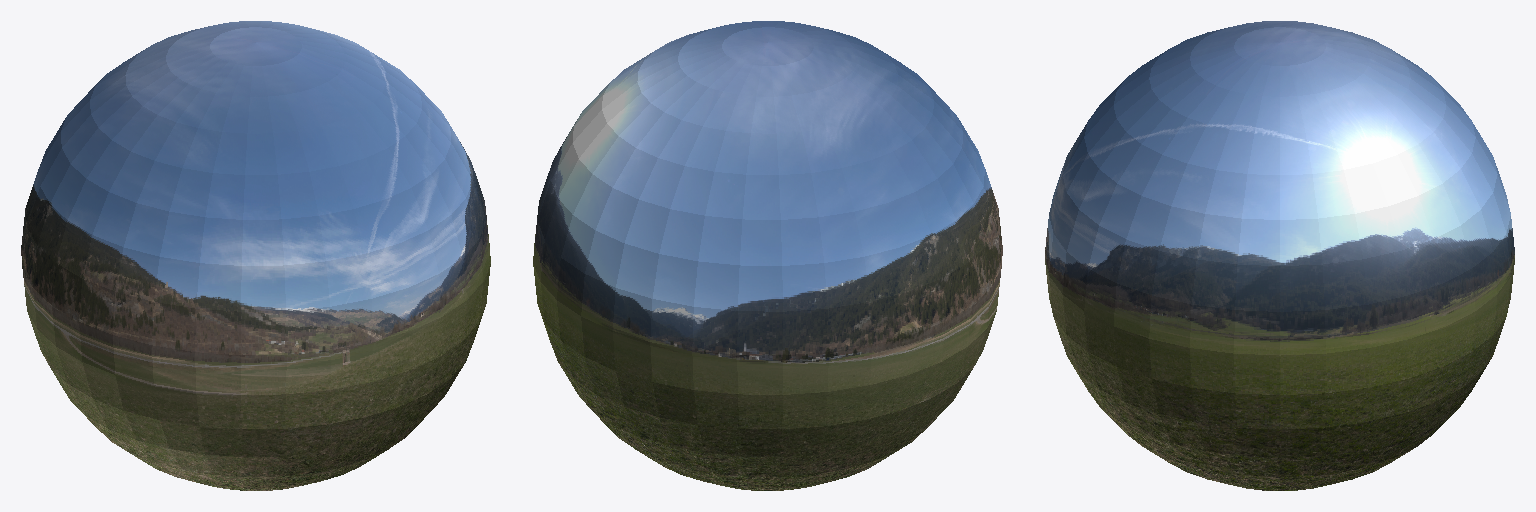
The picture shows the model from 3 angles: view 1: azimuth 30°, elevation 25°; view 2: azimuth 150°, elevation 25°; view 3: azimuth 270°, elevation 25°; orthographic projection.
Visible parts, largest first — view 1: Sphere; view 2: Sphere; view 3: Sphere.
Part boxes in pixels (x1,y1,x2,y2): Sphere: (21, 21, 490, 490); Sphere: (533, 21, 1002, 490); Sphere: (1045, 21, 1514, 490).
Bounding box in the file's own units: 2 × 2 × 2.
Materials: 1 (1 with a texture image).